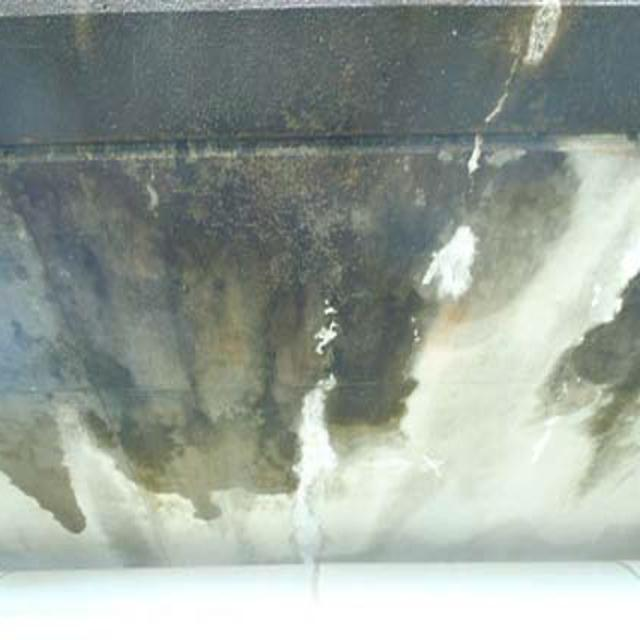freelime: (424, 227, 502, 310), (512, 6, 572, 61)
leakage: (7, 6, 407, 550)
